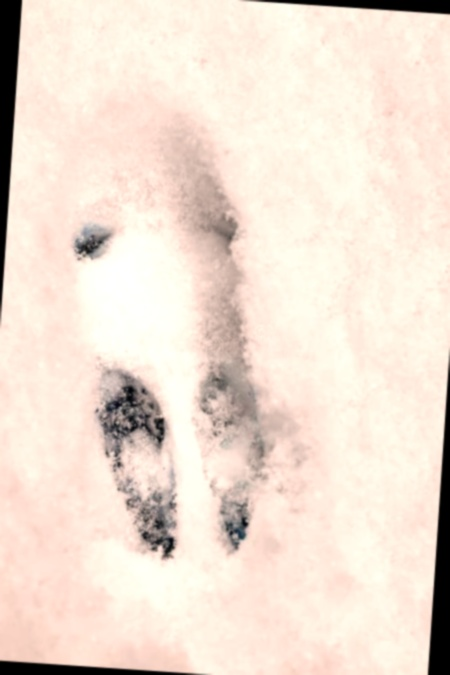lapin: (75, 340, 196, 572), (177, 347, 281, 572)
